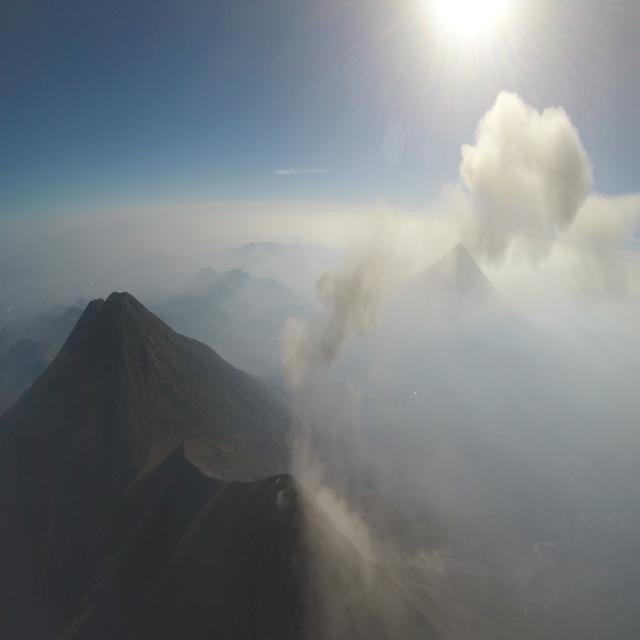Plume: (443, 86, 590, 265), (280, 249, 392, 391)
Summit: (263, 471, 320, 521)
